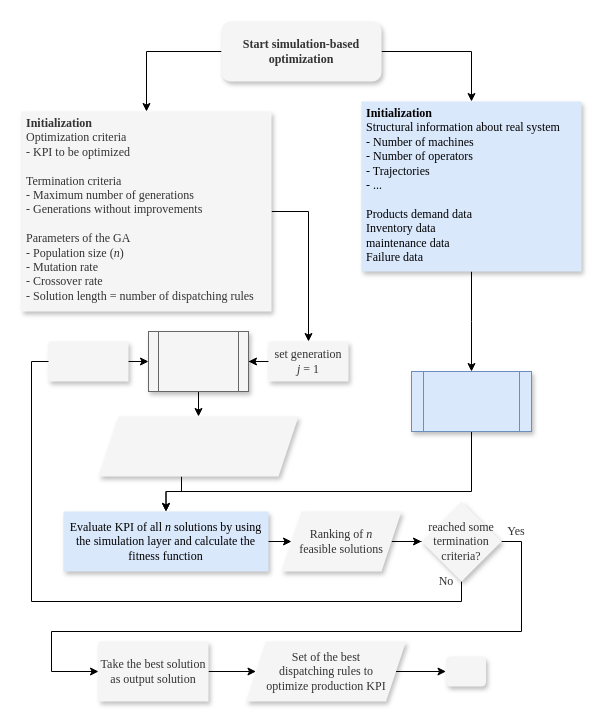
Image size: 604x725. Some labels were removed from this diagram. Each missing label, with the centre of its shape:
"Discrete-event simulation model" belongs at point (472, 402).
"End" belongs at point (467, 672).
"Genetic algorithm" belongs at point (199, 362).
"Population of n feasible solutions (set of dispatching rules)" belongs at point (199, 447).
"set generation j = j + 1" belongs at point (89, 362).
